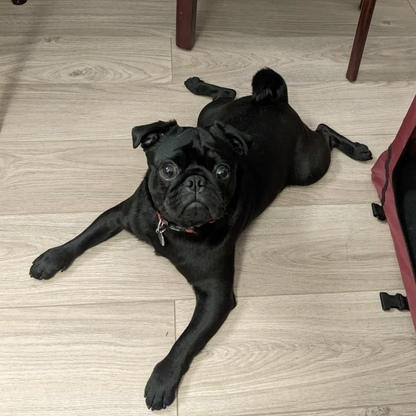Pug: (25, 63, 380, 414)
